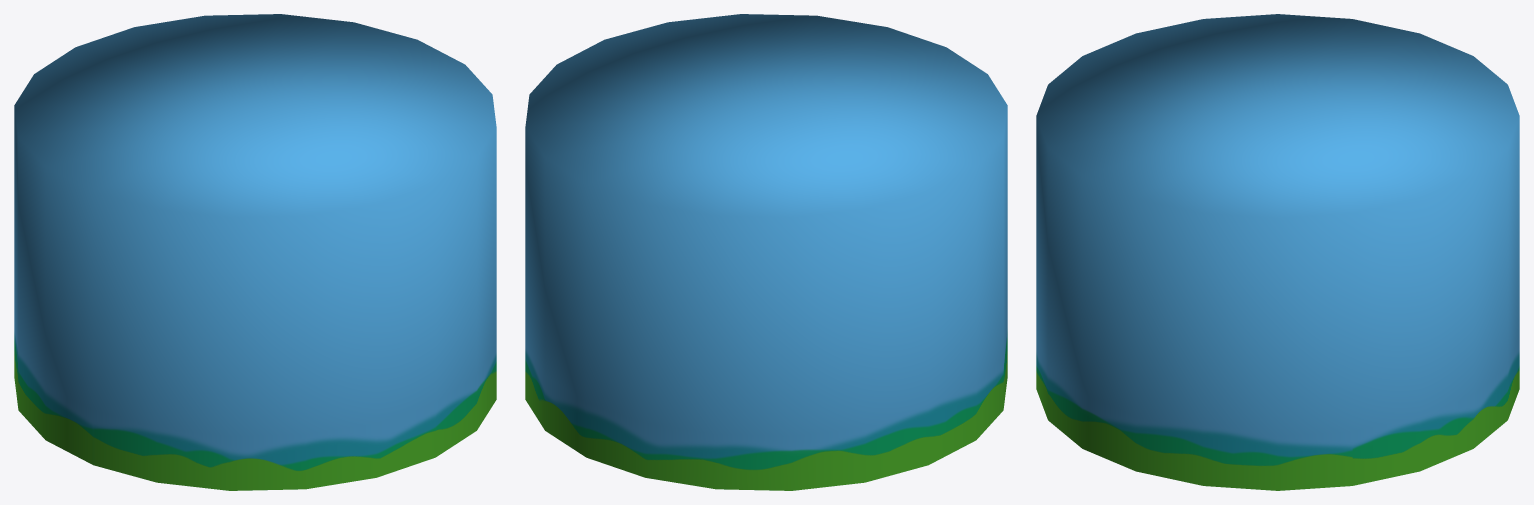
The model's file is OBJ_CourseSpring_All3.fbx.
3 renders of one model, left to right at view 1: azimuth 30°, elevation 25°; view 2: azimuth 150°, elevation 25°; view 3: azimuth 270°, elevation 25°, orthographic.
Visible parts, largest first — view 1: OBJ_Background; view 2: OBJ_Background; view 3: OBJ_Background.
Boxes of the visible parts, x1=… form: OBJ_Background: x1=14, y1=14, x2=496, y2=490; OBJ_Background: x1=525, y1=14, x2=1007, y2=490; OBJ_Background: x1=1036, y1=14, x2=1519, y2=490.
Size of the model in its own units: 904 by 563 by 904.
10 materials, 10 textured.
